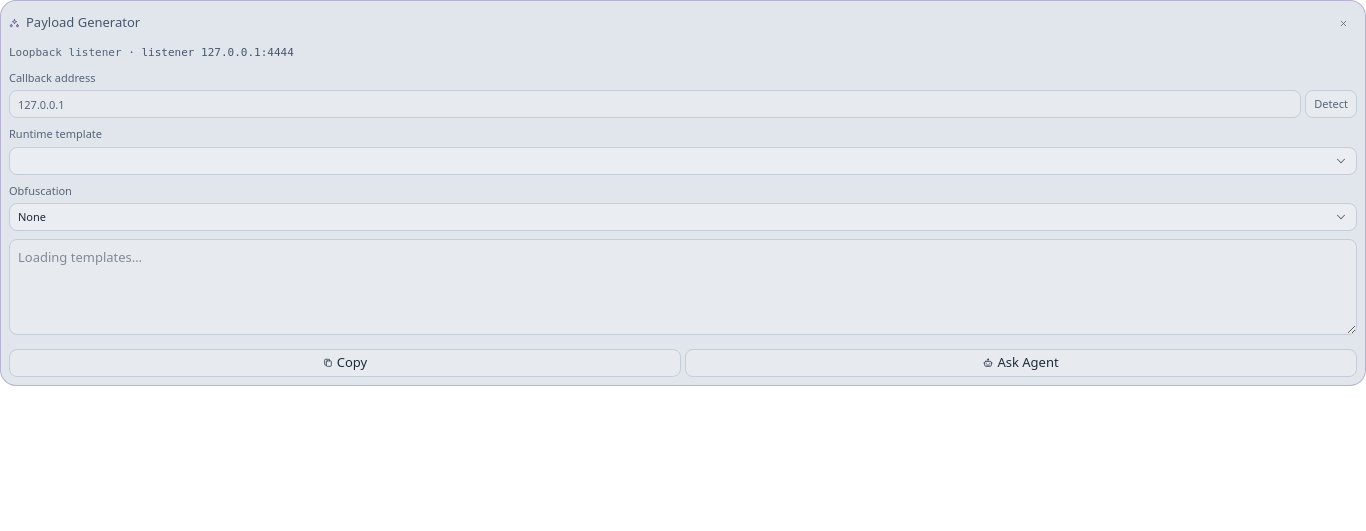
Test: ShellConnectBuilder › detects public IP via the Detect button
The width and height of the screenshot is (1366, 531).
Click the button "Detect" at (1331, 104), box [1305, 90, 1357, 118]
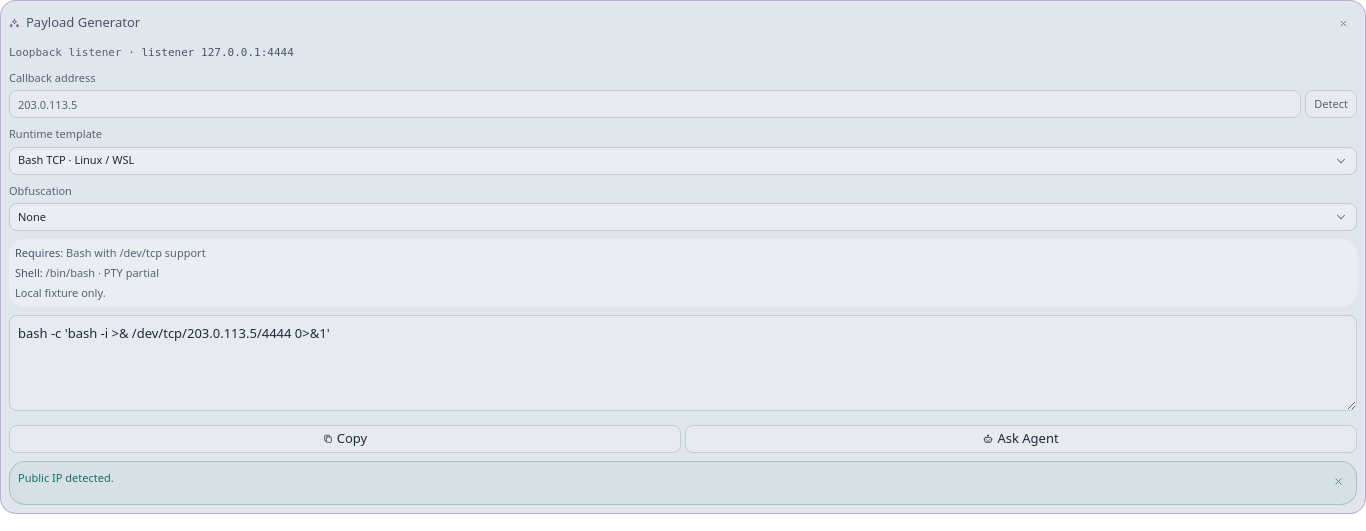
Now the text "Public IP detected." is shown, box [18, 470, 114, 484]
Now the field labelled "Callback address" holds "203.0.113.5", box [9, 90, 1301, 118]
